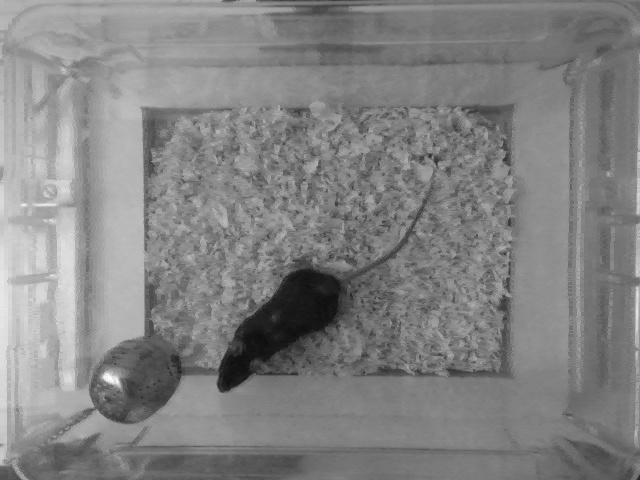mice: (214, 166, 445, 400)
